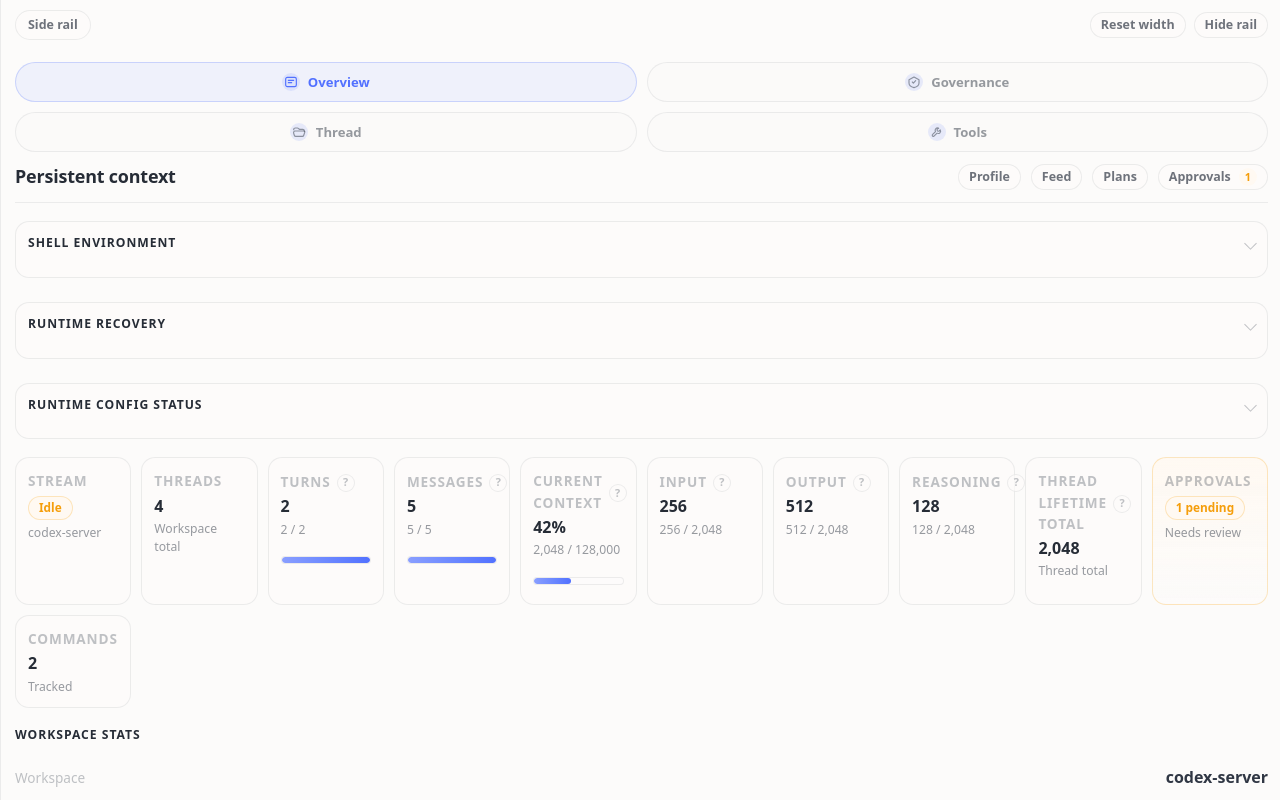
Scenario: ThreadWorkbenchRail › switches between overview, governance, thread, and tools panels
Expected: the heading "Persistent context" is shown, [15,164,176,190]
Step 1. Click the tab "Governance" → click(957, 82), box [646,62,1268,102]
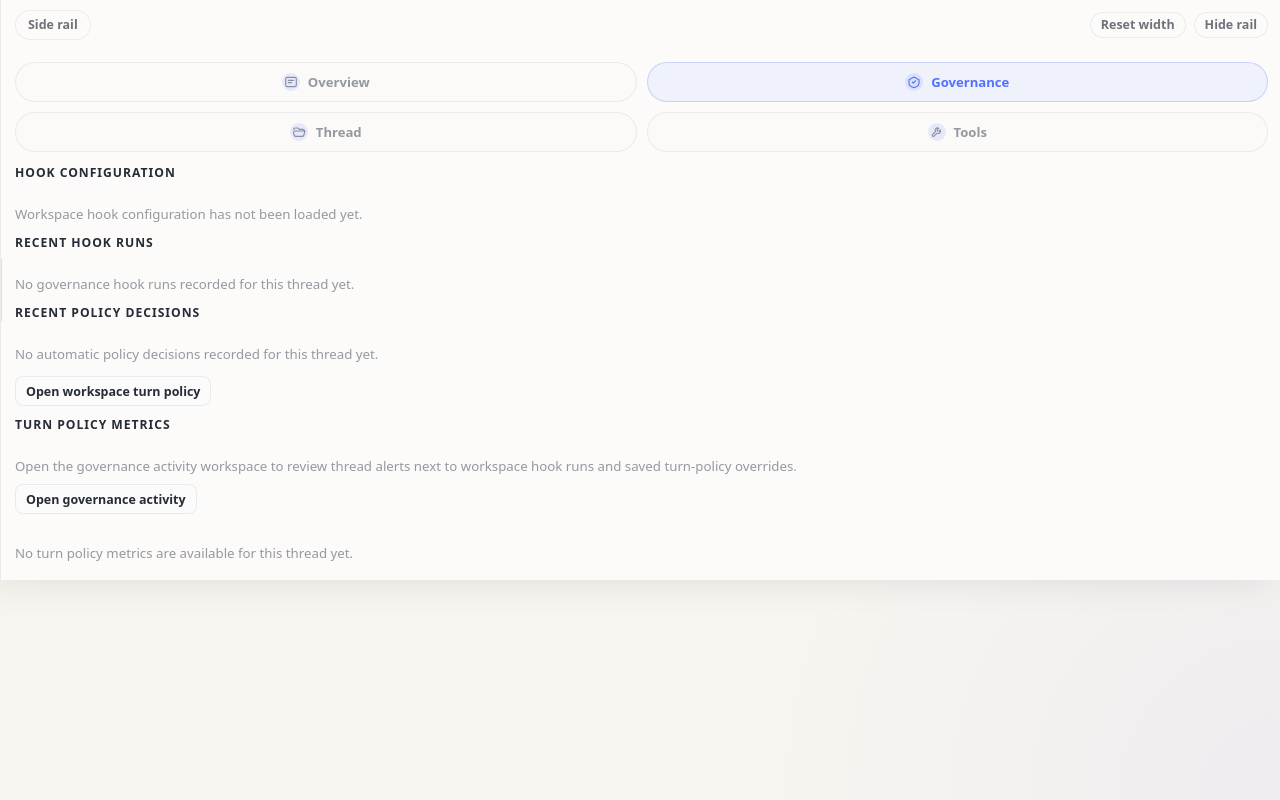
Expected: the heading "Hook Configuration" is shown, [15,164,176,181]
Expected: the heading "Recent Hook Runs" is shown, [15,234,154,251]
Step 2. Click the tab "Thread" → click(326, 132), box [15,112,636,152]
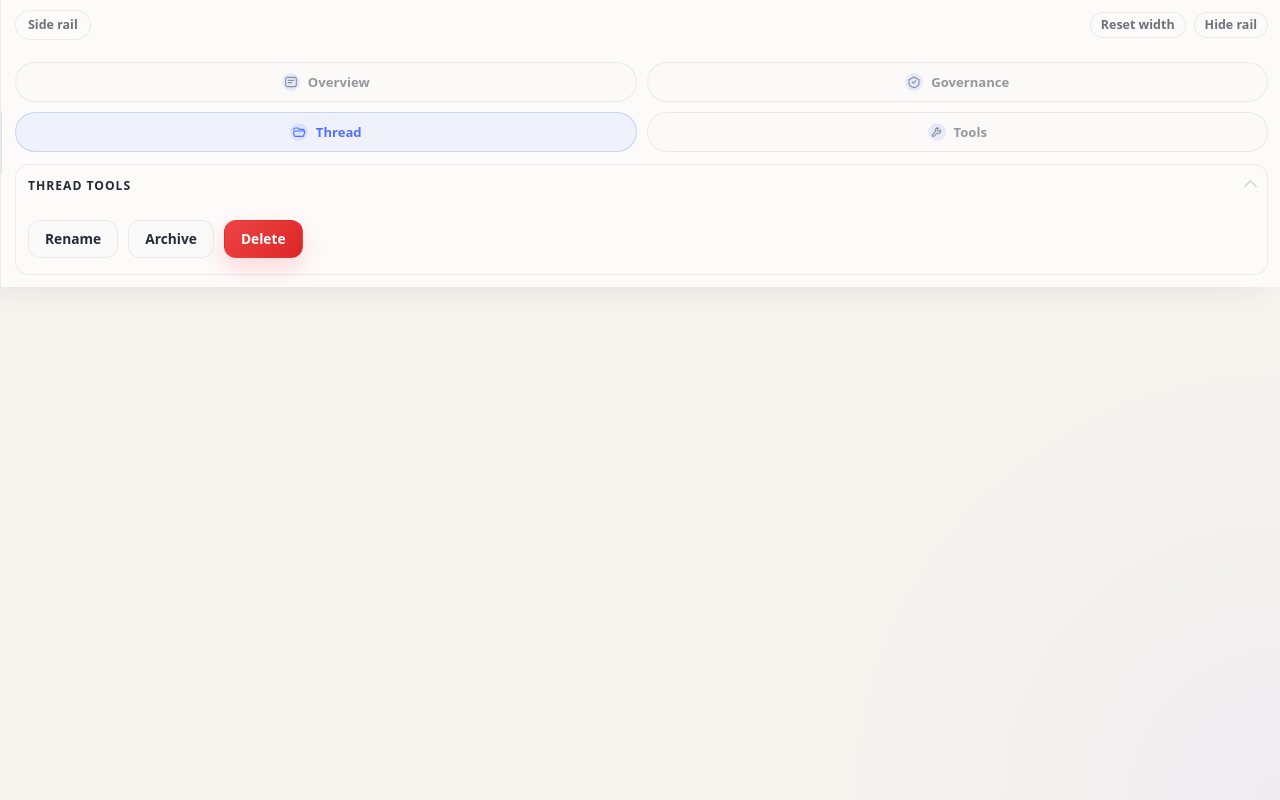
Expected: the heading "Thread tools" is shown, [28,177,131,196]
Expected: the button "Rename" is shown, [28,220,118,258]
Step 3. Click the tab "Tools" → click(957, 132), box [646,112,1268,152]
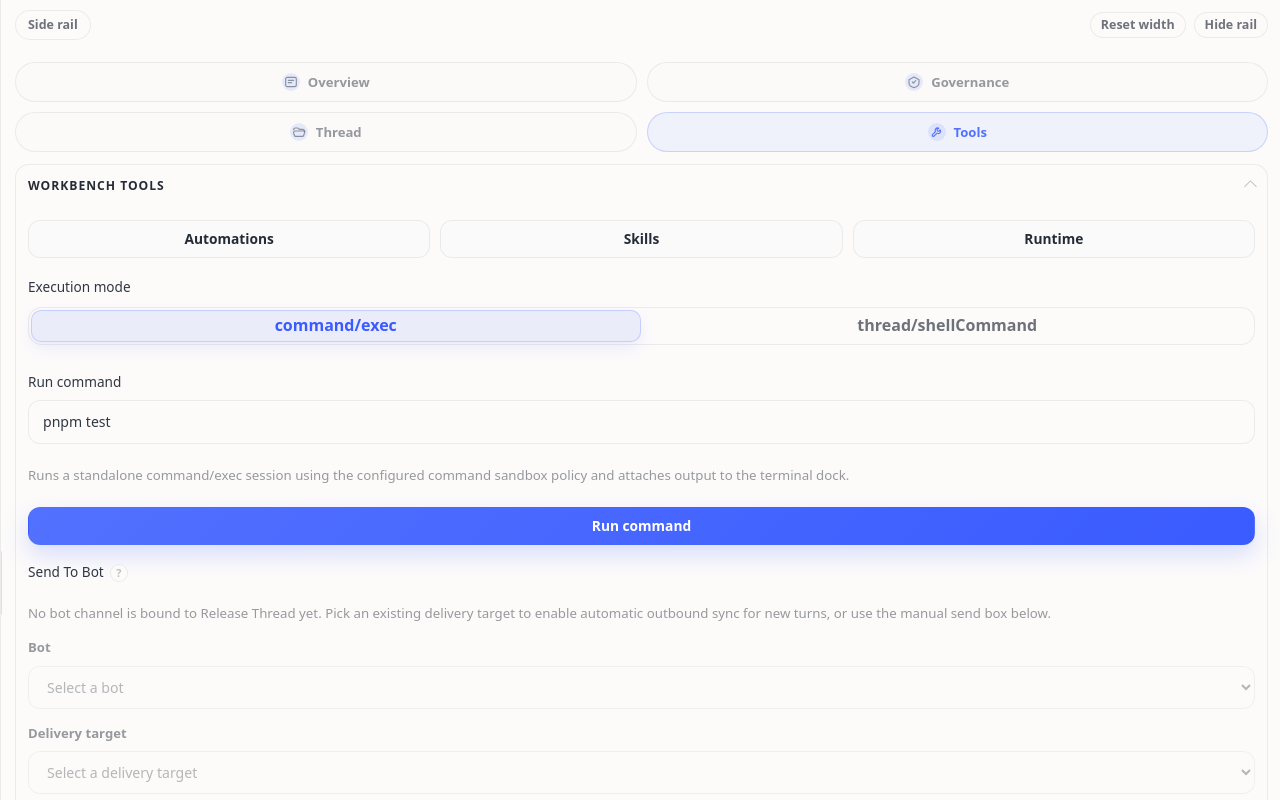
Expected: the heading "Workbench tools" is shown, [28,177,165,196]
Expected: the button "Run command" is shown, [28,507,1255,545]
Step 4. Click the tab "Overview" → click(326, 82), box [15,62,636,102]
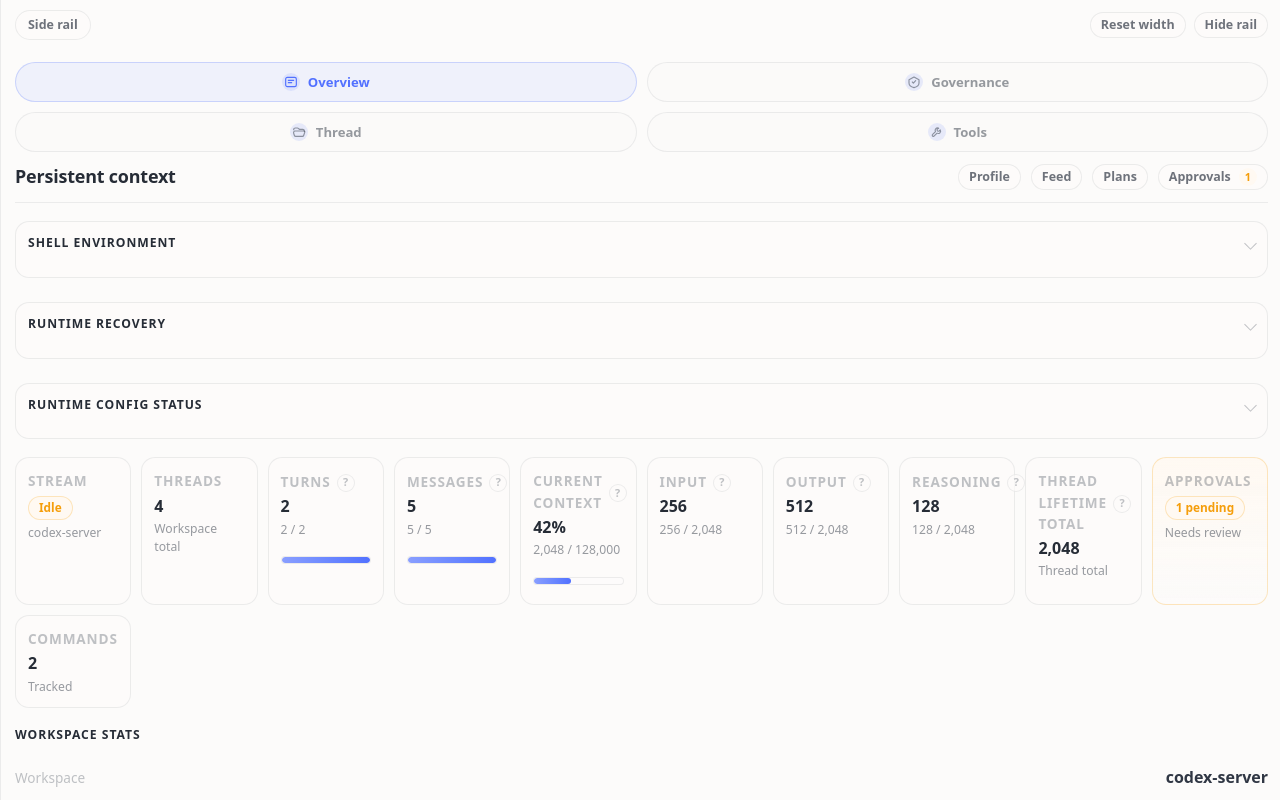
Expected: the heading "Persistent context" is shown, [15,164,176,190]
